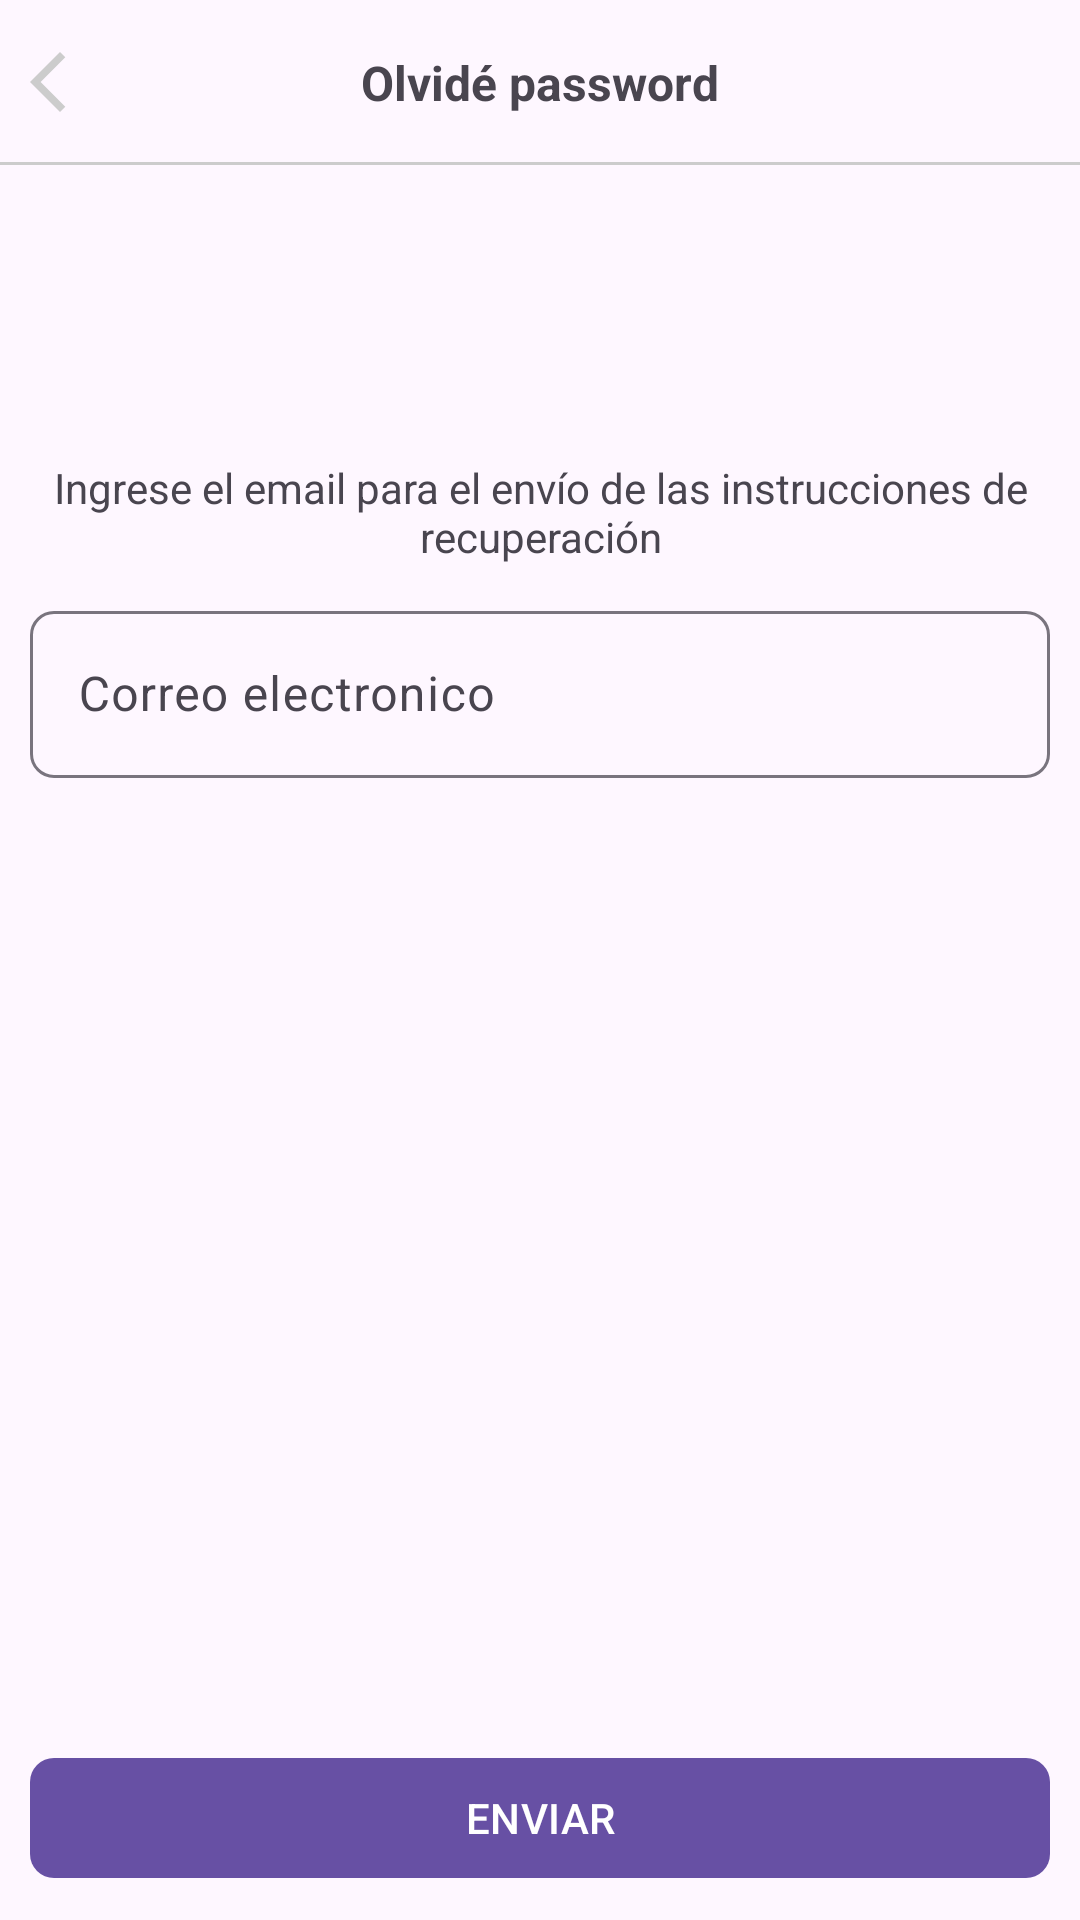

Screen size 1080 x 1920. Icon name, then its center in pixels as (x,y):
regresar: (47,82)
